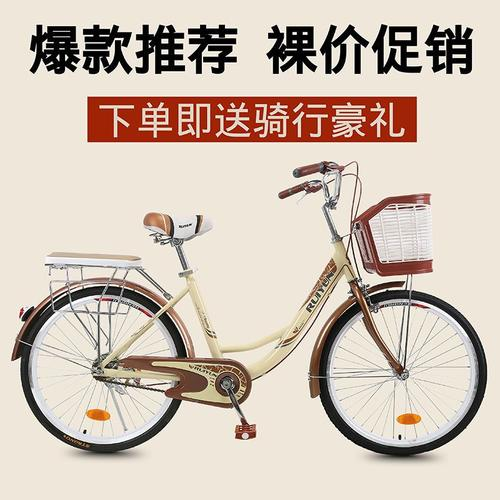单车: (12, 136, 493, 466)
